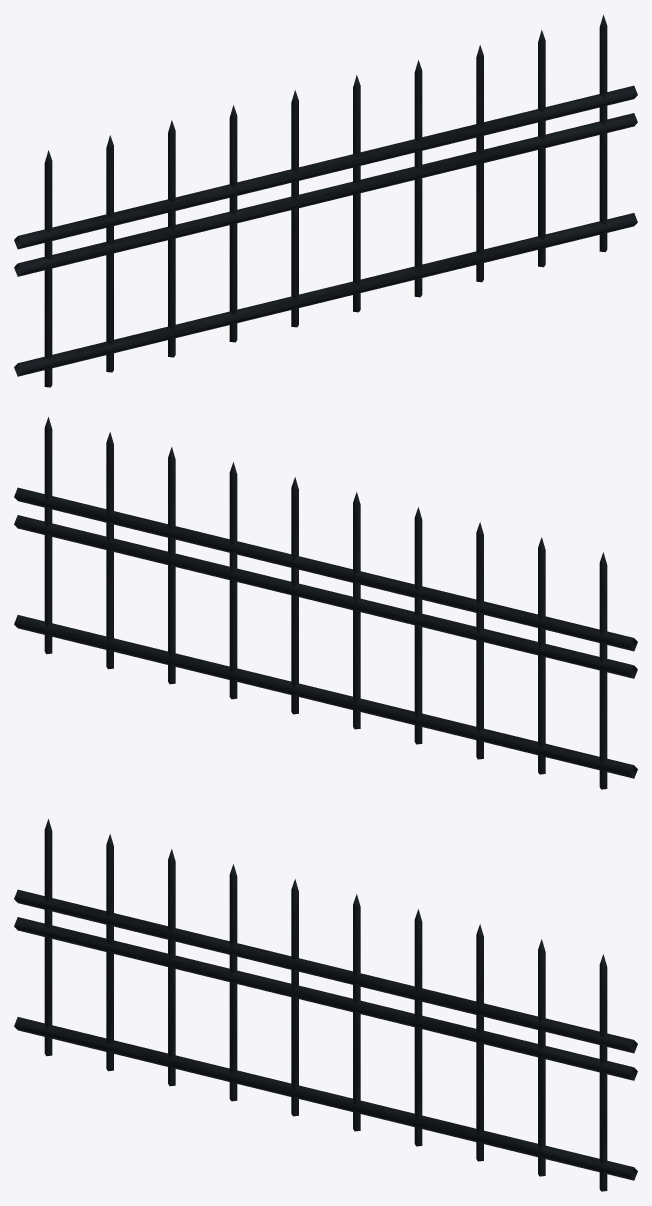
File: Top of the fence.fbx
3 renders of one model, top to bottom at view 1: azimuth 30°, elevation 25°; view 2: azimuth 150°, elevation 25°; view 3: azimuth 330°, elevation 25°, orthographic.
Parts seen in each view (by area): view 1: Top of the fence; view 2: Top of the fence; view 3: Top of the fence.
Part boxes in pixels (x1,y1,x2,y2): Top of the fence: (14, 15, 637, 387); Top of the fence: (14, 417, 637, 789); Top of the fence: (14, 819, 637, 1191).
Size of the model in its own units: 200 by 73.27 by 4.2.
